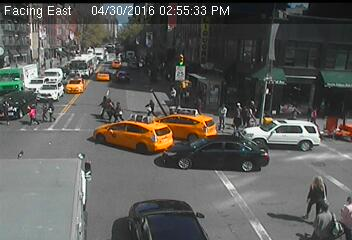neg: (77, 157, 97, 184), (339, 113, 349, 127), (334, 88, 343, 99)
pos: (300, 169, 332, 211), (311, 198, 339, 234), (332, 192, 351, 237), (214, 102, 231, 125), (228, 100, 245, 123), (25, 102, 41, 124), (244, 97, 259, 117), (35, 100, 50, 120), (145, 96, 159, 115), (44, 100, 58, 119), (103, 95, 116, 113), (113, 100, 126, 117), (99, 94, 109, 107)
